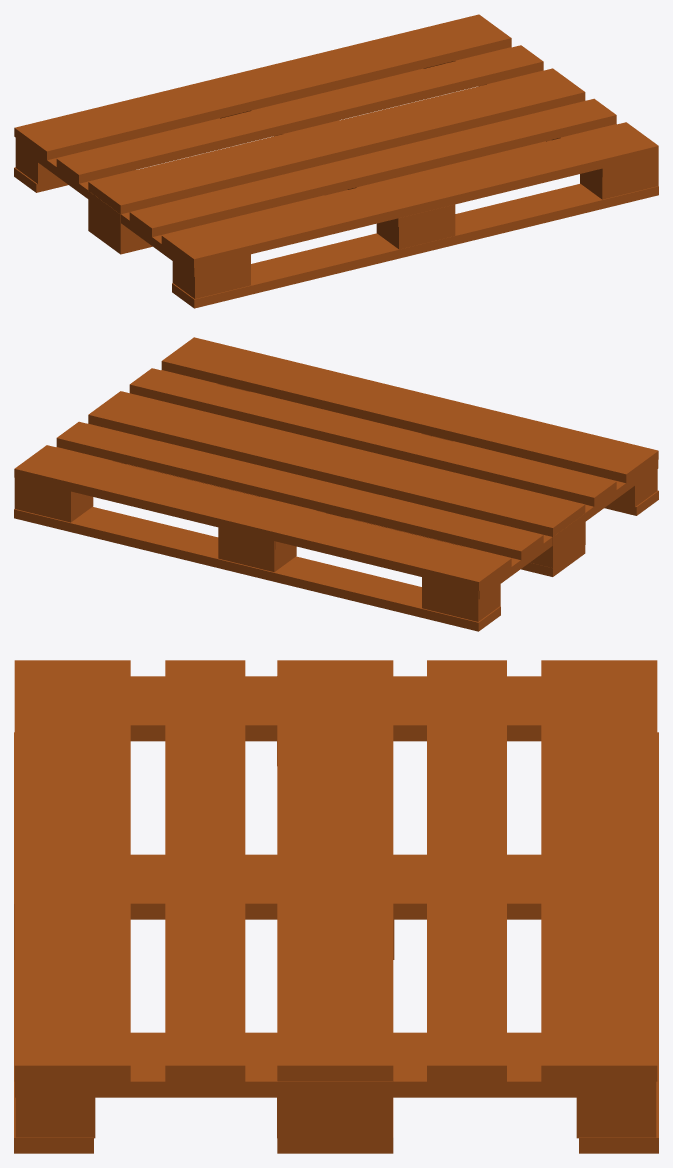
The model's file is Europalette.obj.
3 renders of one model, top to bottom at view 1: azimuth 30°, elevation 25°; view 2: azimuth 150°, elevation 25°; view 3: azimuth 270°, elevation 25°, orthographic. The views are drawn at different scales.
Parts seen in each view (by area): view 1: Box08; view 2: Box08; view 3: Box08.
Boxes of the visible parts, x1=… form: Box08: x1=14, y1=14, x2=658, y2=308; Box08: x1=14, y1=337, x2=658, y2=631; Box08: x1=14, y1=660, x2=658, y2=1153.
Bounding box in the file's own units: 120 × 12.14 × 80.65.
